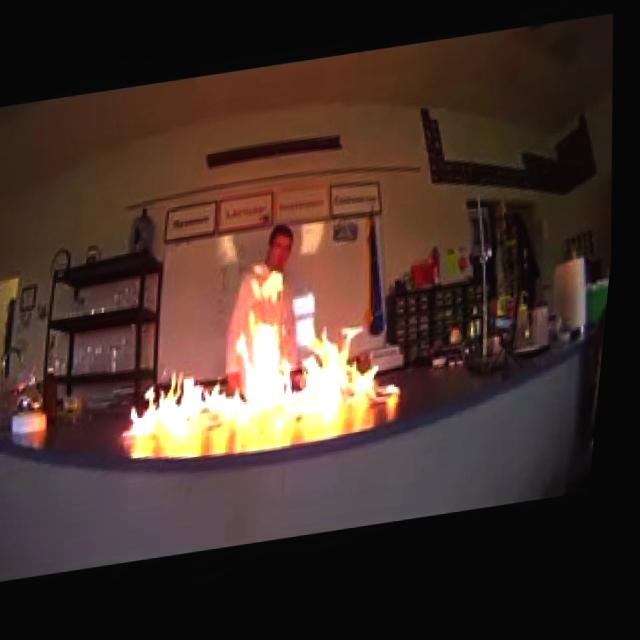Fire: (105, 243, 423, 448)
